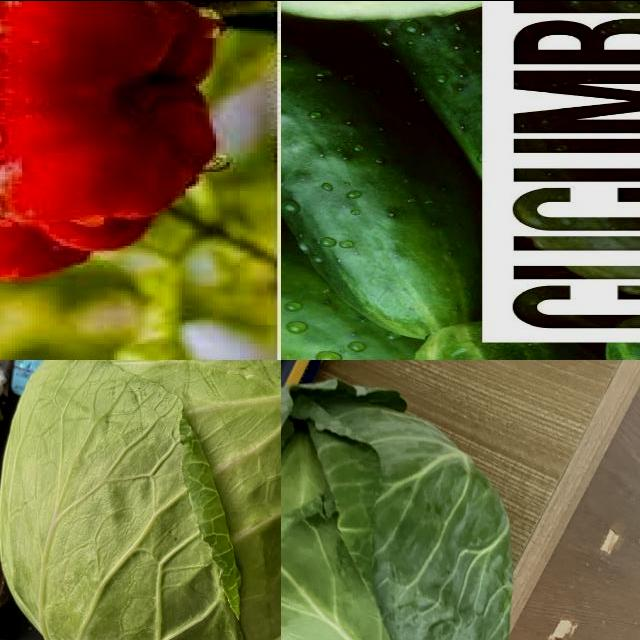bell_pepper: (1, 1, 235, 287)
cabbage: (1, 360, 282, 640), (282, 372, 518, 640)
cucumber: (282, 4, 484, 348)
